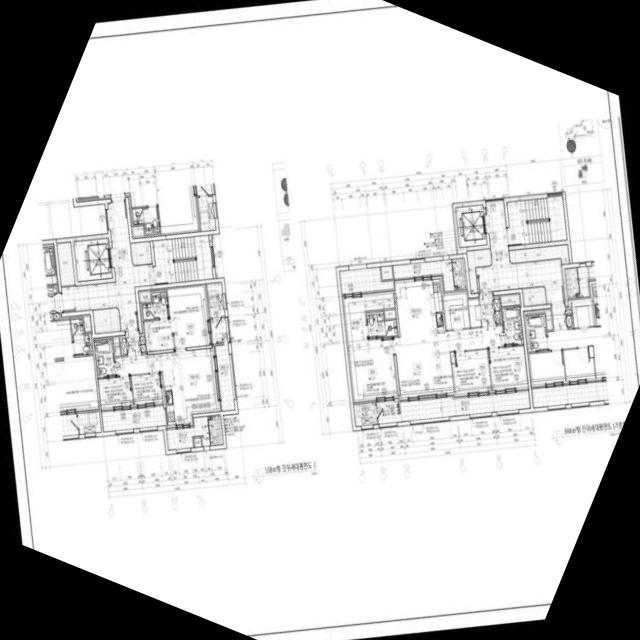background: (0, 0, 640, 640)
space_balconi: (376, 390, 530, 423), (392, 257, 466, 290), (210, 317, 234, 410), (166, 414, 222, 449), (101, 405, 165, 431), (339, 266, 393, 293)
space_bedroom: (348, 337, 397, 399), (167, 285, 209, 348), (452, 349, 491, 393), (488, 345, 527, 389), (98, 375, 133, 407), (131, 372, 162, 403)
space_dressroom: (144, 318, 173, 350)
space_elevator_hall: (61, 200, 154, 330), (455, 199, 564, 303)
space_front: (479, 295, 501, 327), (120, 330, 146, 354)
space_kitchen: (115, 347, 218, 424), (394, 278, 445, 336)
space_living_room: (394, 325, 504, 397)
space_other: (344, 292, 394, 341), (509, 244, 569, 263), (466, 248, 491, 292), (442, 293, 469, 329), (56, 241, 74, 285), (92, 307, 120, 332), (130, 240, 152, 264), (522, 286, 546, 305), (468, 298, 481, 326), (500, 294, 519, 305), (381, 265, 392, 279), (139, 291, 151, 302), (113, 337, 120, 355), (384, 309, 395, 318), (193, 437, 201, 446), (449, 351, 455, 362)
space_outdoor_room: (206, 281, 224, 316), (353, 401, 377, 425)
space_staircase: (506, 195, 566, 245), (153, 234, 213, 283)
space_toilet: (501, 306, 523, 345), (366, 310, 397, 337), (94, 339, 115, 377), (142, 291, 168, 319)
